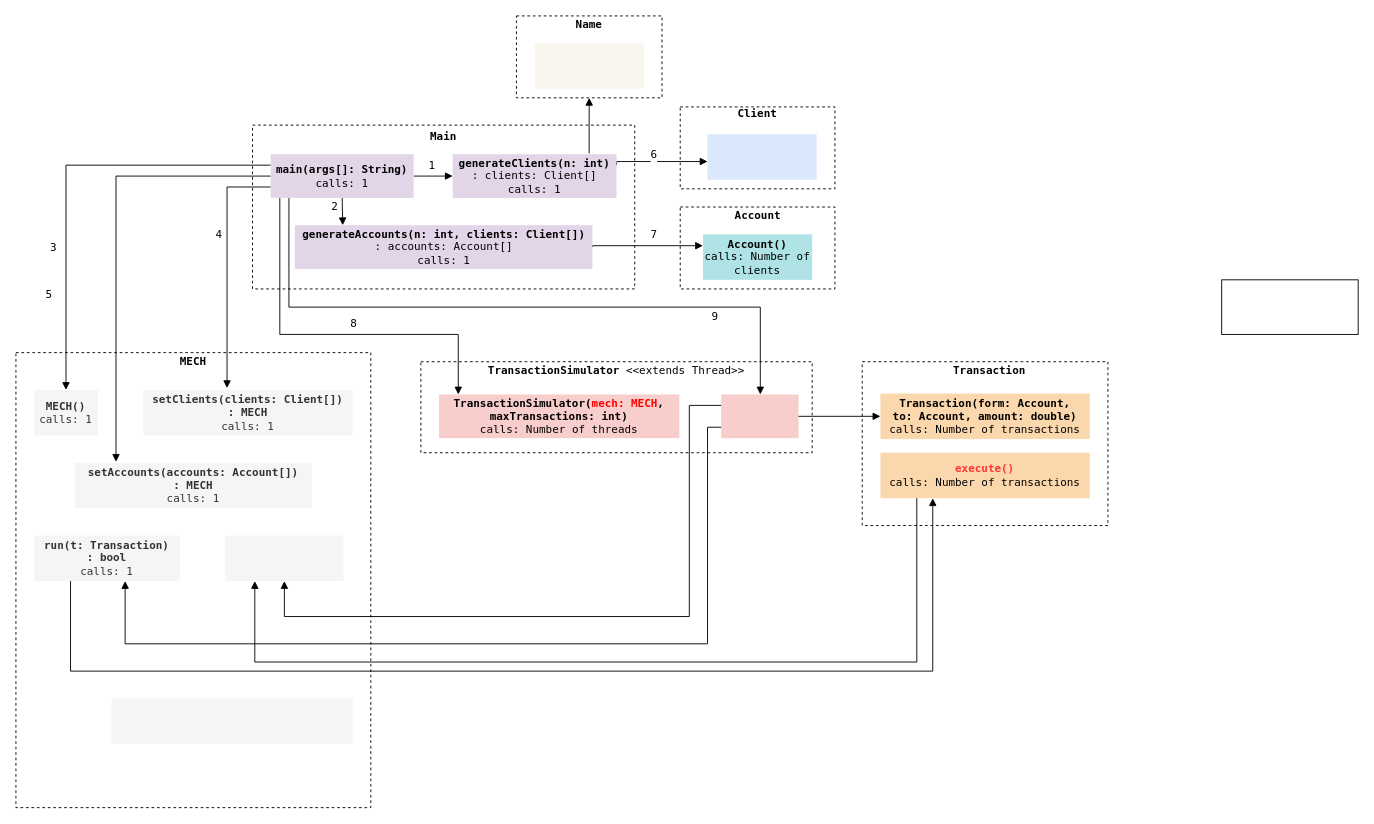
Image size: 1374x824. Some labels were removed from this diagram. The centre of each missing label's shape, as x and y in pixels:
"Client() calls: Number of clients" belongs at pixel 761 156.
"getAccounts() : Account[] calls: 1" belongs at pixel 284 558.
"getTransactionCount(t: Transaction) : int calls:" belongs at pixel 231 720.
"Name() calls: Number of clients" belongs at pixel 588 65.
"run() calls: 1 per thread" belongs at pixel 759 416.
"TransactionStatus" belongs at pixel 1289 306.
